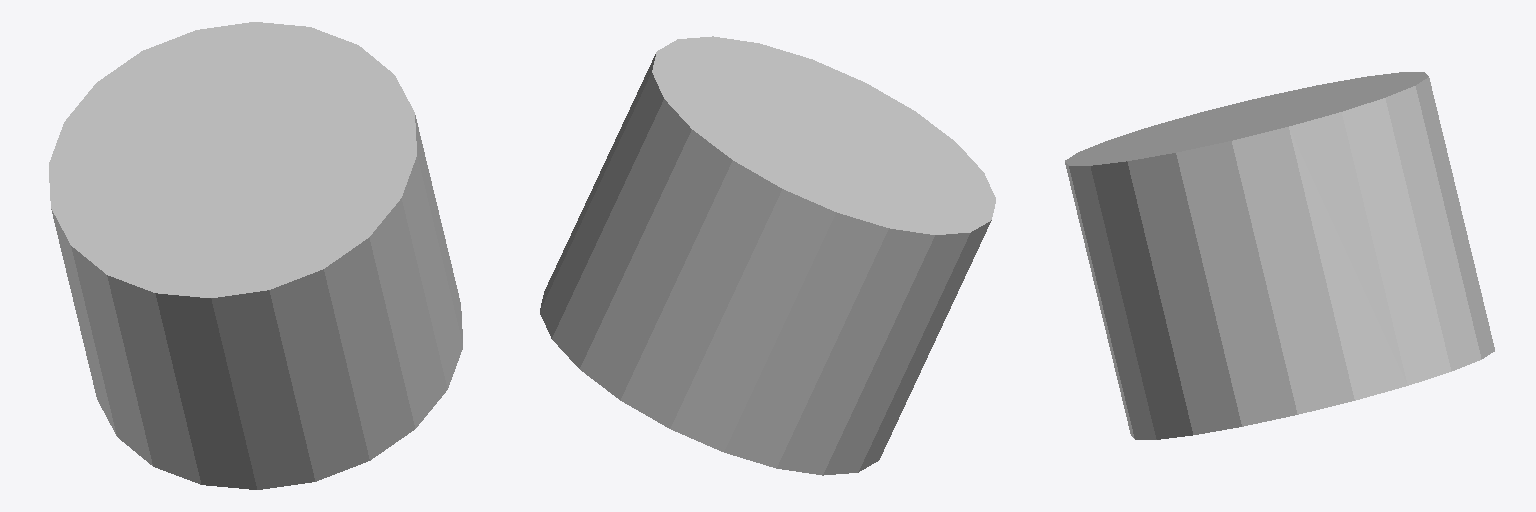
Rendered from Nervio_supraclavicular_D_3.obj.
3 views of the same model, side by side, from view 1: azimuth 30°, elevation 25°; view 2: azimuth 150°, elevation 25°; view 3: azimuth 270°, elevation 25° (orthographic).
Visible parts, largest first — view 1: polySurface20 polySurface20 MArcadores_; view 2: polySurface20 polySurface20 MArcadores_; view 3: polySurface20 polySurface20 MArcadores_.
Part boxes in pixels (left/top/right/bottom): polySurface20 polySurface20 MArcadores_: left=49, top=22, right=462, bottom=489; polySurface20 polySurface20 MArcadores_: left=540, top=36, right=995, bottom=475; polySurface20 polySurface20 MArcadores_: left=1065, top=72, right=1494, bottom=439.
Bounding box in the file's own units: 0.0332 × 0.0304 × 0.032.